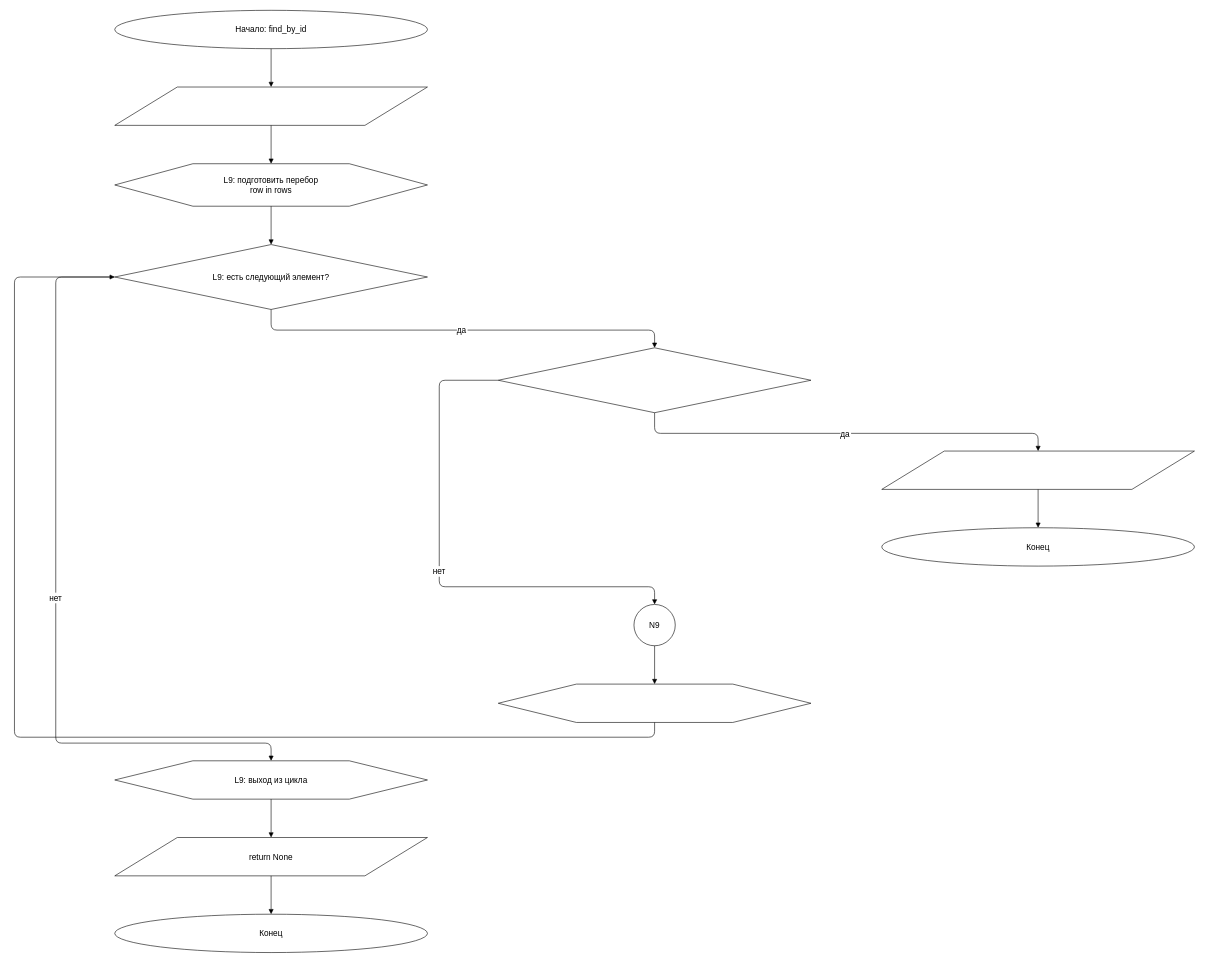
Image size: 1205x963. Some labels were removed from this diagram. Here are the shapes that lost their labels. From the top down, the centre of each, then its label:
(x=270, y=105): Вход: rows, row_id
(x=654, y=380): row['id'] == row_id?
(x=1037, y=469): return row
(x=654, y=703): L9: перейти к следующему элементу
